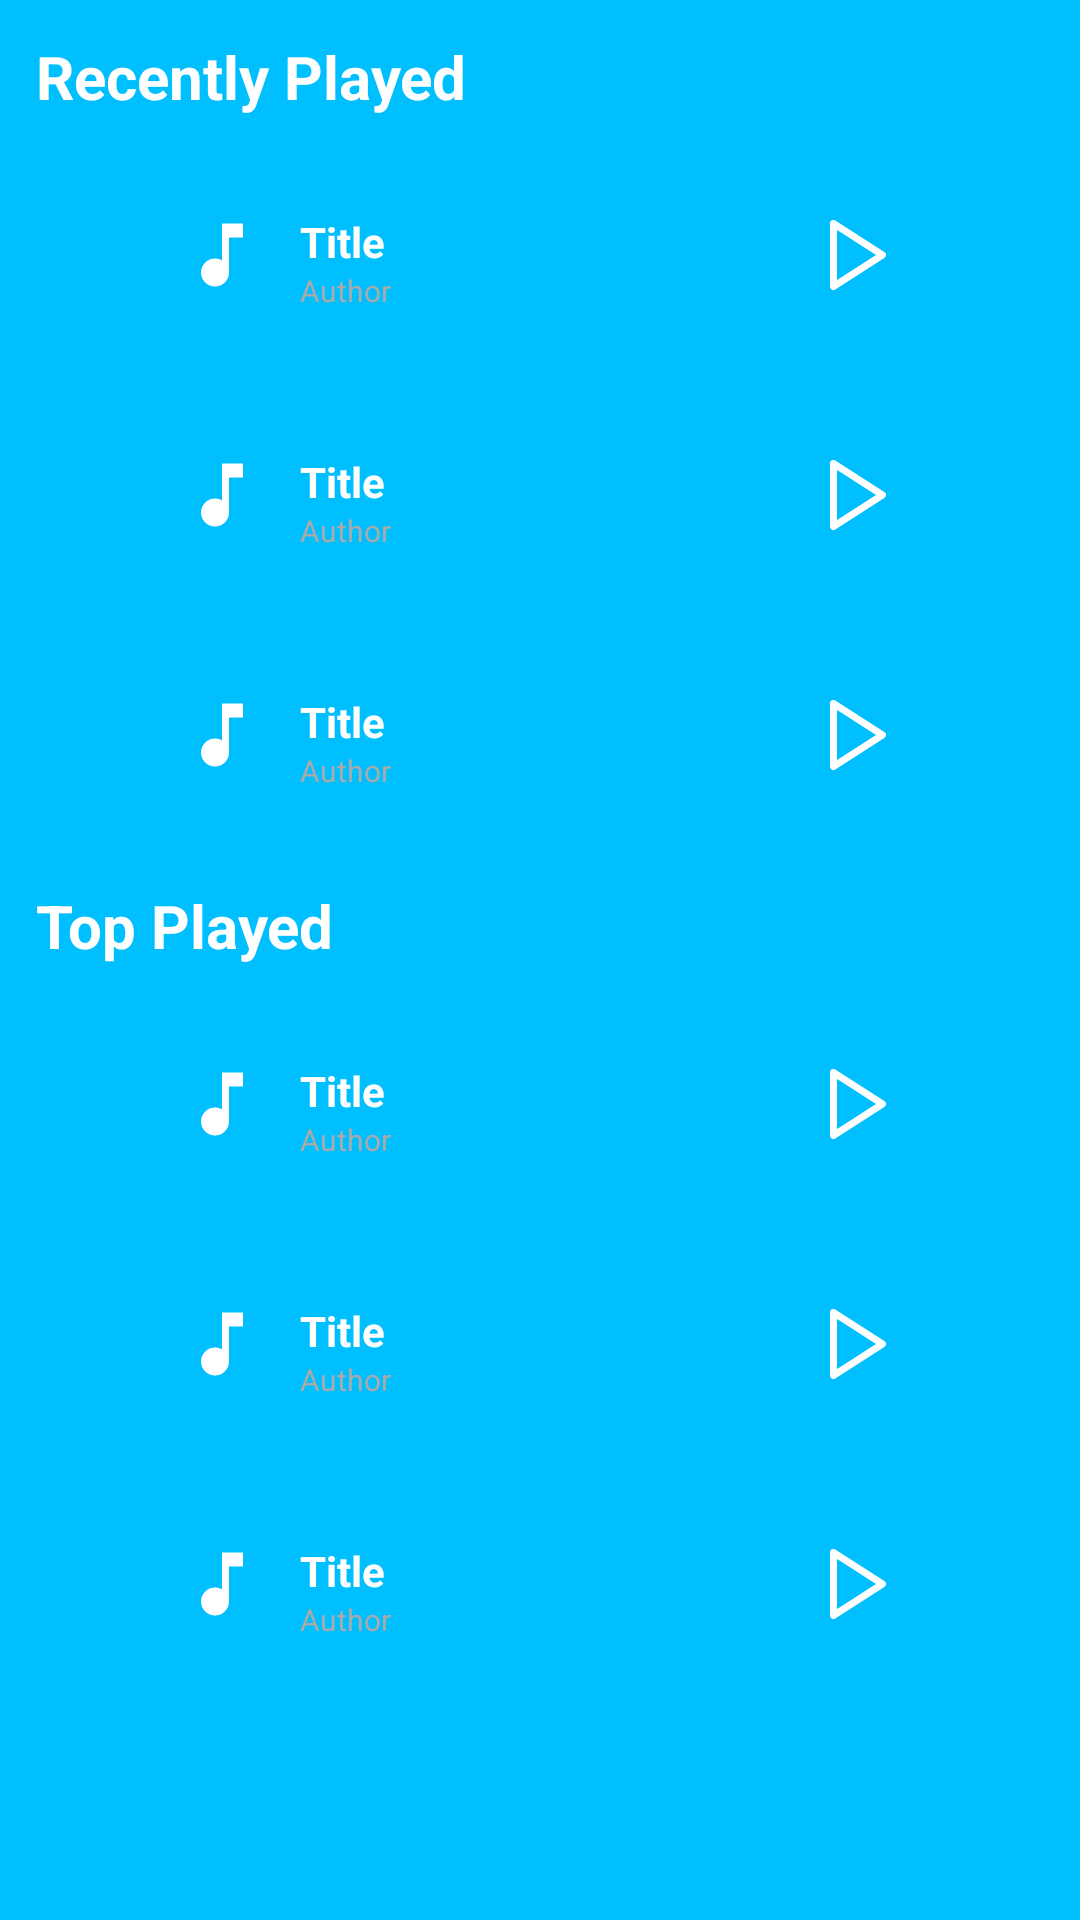

Screen size 1080x1920. Icon name, then its box in pixels as (x1=x1, y1=y1, x2=x2, y2=y2):
music note: (x1=201, y1=223, x2=243, y2=287), (x1=201, y1=463, x2=243, y2=527), (x1=201, y1=703, x2=243, y2=767), (x1=201, y1=1072, x2=243, y2=1136), (x1=201, y1=1312, x2=243, y2=1376), (x1=201, y1=1552, x2=243, y2=1616)
play: (x1=830, y1=220, x2=886, y2=291), (x1=830, y1=460, x2=886, y2=531), (x1=830, y1=700, x2=886, y2=771), (x1=830, y1=1069, x2=886, y2=1140), (x1=830, y1=1309, x2=886, y2=1380), (x1=830, y1=1549, x2=886, y2=1620)
